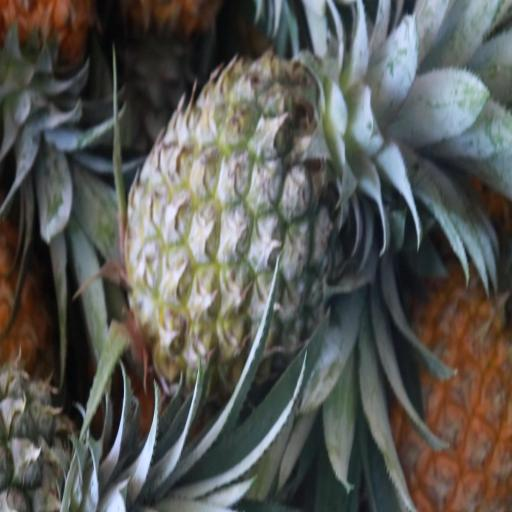------------------------------: (126, 58, 349, 390)
Pineapple - v8 v1: (389, 218, 512, 509)
